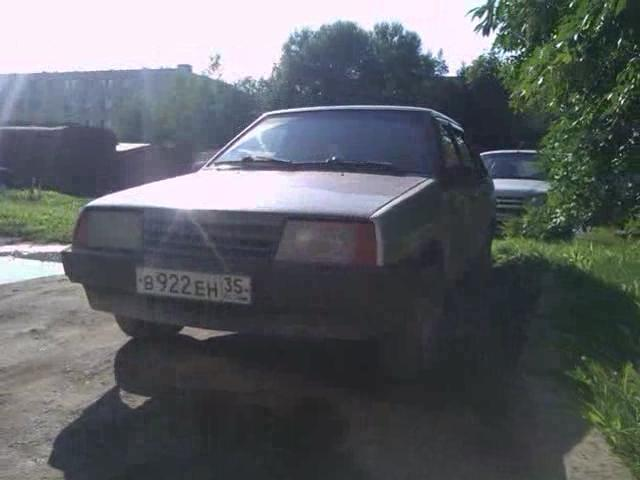car license plate: (132, 265, 255, 309)
